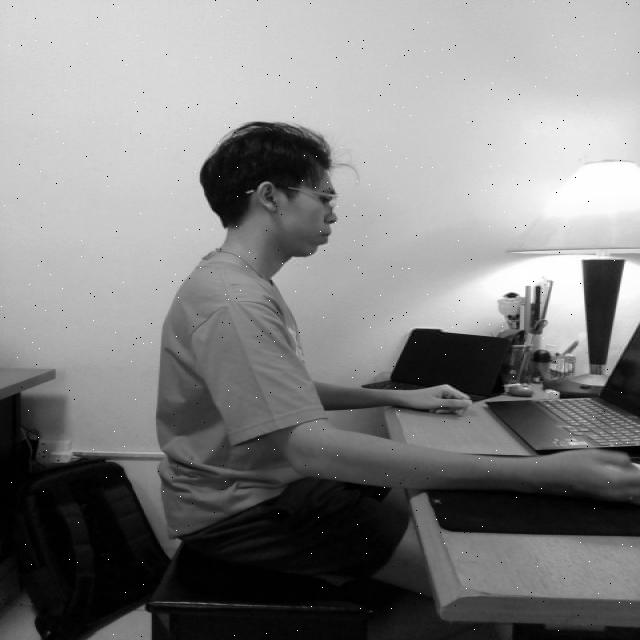Good: (147, 116, 409, 578)
